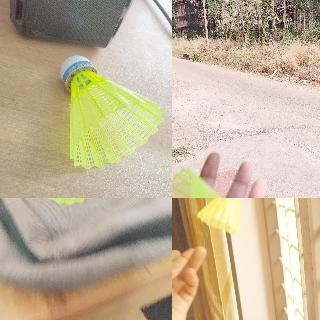shuttlecock: (60, 54, 162, 168), (172, 167, 267, 197), (197, 198, 246, 234)
